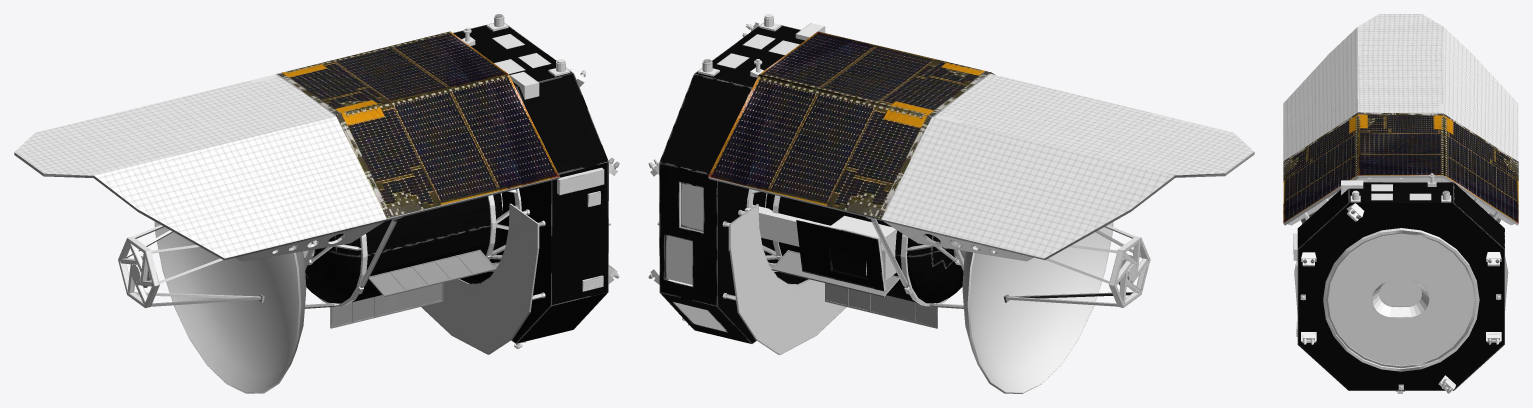
File: herschel.glb
3 renders of one model, left to right at view 1: azimuth 30°, elevation 25°; view 2: azimuth 150°, elevation 25°; view 3: azimuth 270°, elevation 25°, orthographic. The views are drawn at different scales.
Visible parts, largest first — view 1: mesh31, mesh032; view 2: mesh31, mesh032; view 3: mesh31, mesh032.
Boxes of the visible parts, x1=… form: mesh31: x1=14, y1=14, x2=619, y2=393; mesh032: x1=277, y1=31, x2=559, y2=218; mesh31: x1=648, y1=14, x2=1254, y2=393; mesh032: x1=708, y1=31, x2=995, y2=219; mesh31: x1=1283, y1=14, x2=1518, y2=393; mesh032: x1=1283, y1=112, x2=1518, y2=223.
Size of the model in its own units: 7.58 by 3.9 by 4.01.
Materials: 2 (2 with a texture image).
